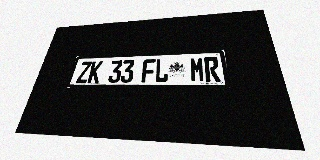3: (107, 60, 123, 83), (120, 60, 135, 83)
F: (141, 59, 155, 82)
K: (87, 61, 103, 83)
L: (154, 58, 168, 82)
M: (190, 57, 205, 82)
R: (204, 56, 221, 82)
Z: (76, 61, 92, 83)
